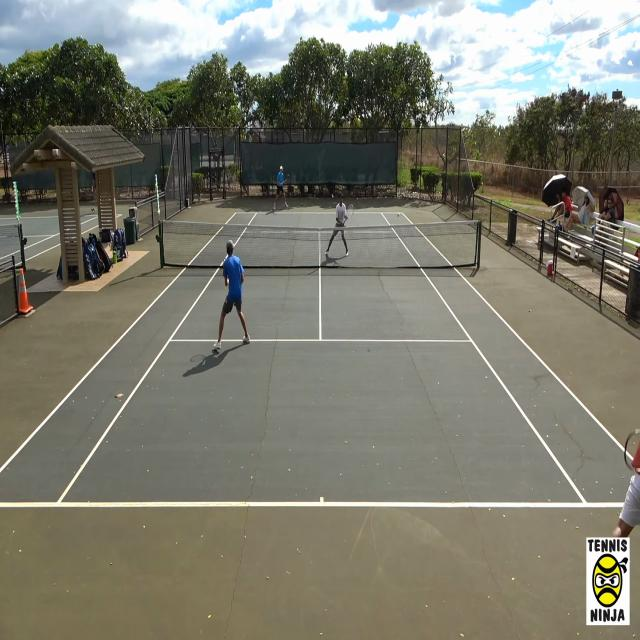ball: (395, 211, 401, 220)
